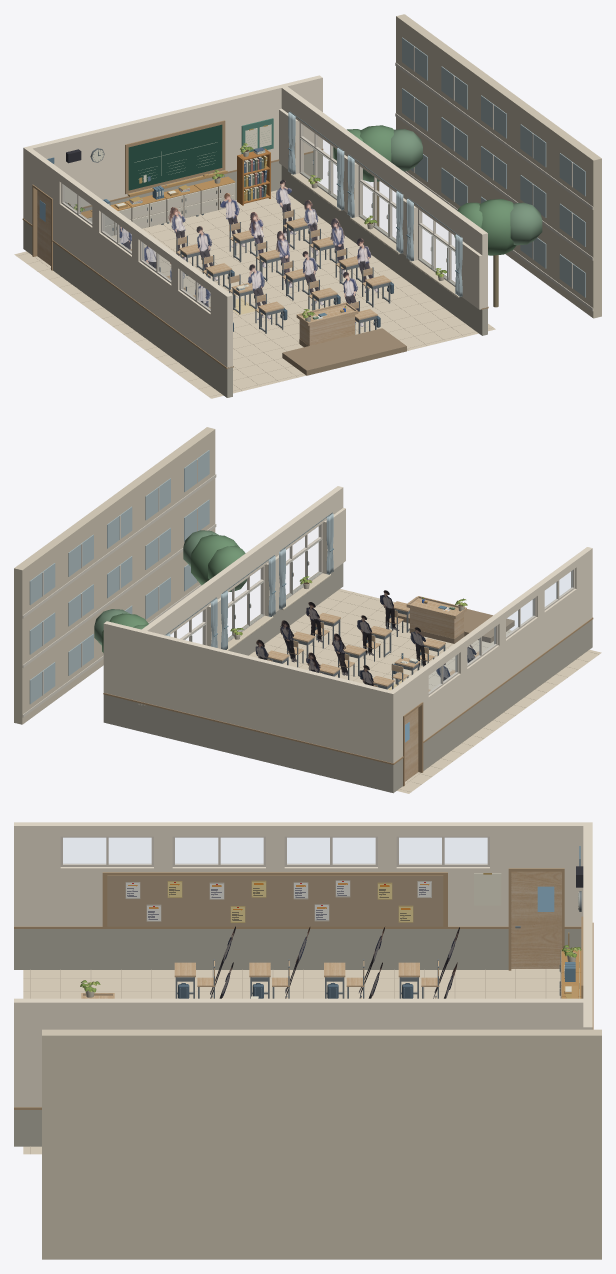
Rendered from current_classroom.glb.
The picture shows the model from 3 angles, top to bottom: view 1: azimuth 30°, elevation 25°; view 2: azimuth 150°, elevation 25°; view 3: azimuth 270°, elevation 25°; orthographic projection. The views are drawn at different scales.
Parts seen in each view (by area): view 1: _root_Classroom3D_Room_Floor, box_building0, _root_Classroom3D_Room_BackWall_Upper, _root_Classroom3D_Room_LeftWall_MidA, _root_Classroom3D_Room_RightWall_Top, _root_Classroom3D_Room_LeftWall_LowerA, _root_Classroom3D_Room_RightWall_Lower, _root_Classroom3D_Room_BackWall_NewsBoard_Board, _root_Classroom3D_Podium_Dais3, _root_Classroom3D_Room_LeftWall_Top, _root_Classroom3D_ClassroomArt_SceneDetails_WarmWindowTall1_ (×2), _root_Classroom3D_ClassroomArt_SceneDetails_WarmWindowTall2_ (×2) (+33 smaller); view 2: _root_Classroom3D_Room_BackWall_Upper, box_building0, _root_Classroom3D_Room_Floor, _root_Classroom3D_Room_BackWall_Lower, _root_Classroom3D_Room_LeftWall_MidA, _root_Classroom3D_Room_RightWall_Top, _root_Classroom3D_Room_LeftWall_LowerA, _root_Classroom3D_Room_LeftWall_Top, _root_Classroom3D_Room_RightWall_Lower, _root_Classroom3D_ClassroomArt_SceneDetails_WarmWindowTall3_ (×2), _root_Classroom3D_ClassroomArt_SceneDetails_WarmWindowTall2_ (×2), _root_Classroom3D_Podium_Lectern_Body (+23 smaller); view 3: box_building0, _root_Classroom3D_Room_LeftWall_LowerA, _root_Classroom3D_Room_RightWall_Top, _root_Classroom3D_Room_LeftWall_BulletinBoard_Cork, _root_Classroom3D_Room_Floor, _root_Classroom3D_Room_LeftWall_MidA, _root_Classroom3D_Room_LeftWall_Top, _root_Classroom3D_Room_LeftWall_Door_Leaf, _root_Classroom3D_Room_LeftWall_Post1, _root_Classroom3D_Room_LeftWall_BulletinBoard_Frame, _root_Classroom3D_Room_LeftWall_WindowHigh1_Glass, _root_Classroom3D_Room_LeftWall_WindowHigh2_Glass (+11 smaller).
Part boxes in pixels (x1,y1,x2,y2): _root_Classroom3D_Room_Floor: (14, 190, 495, 398); box_building0: (396, 14, 601, 318); _root_Classroom3D_Room_BackWall_Upper: (23, 75, 322, 220); _root_Classroom3D_Room_LeftWall_MidA: (53, 199, 232, 367); _root_Classroom3D_Room_RightWall_Top: (281, 85, 487, 255); _root_Classroom3D_Room_LeftWall_LowerA: (53, 242, 232, 397); _root_Classroom3D_Room_RightWall_Lower: (281, 165, 487, 335); _root_Classroom3D_Room_BackWall_NewsBoard_Board: (128, 124, 222, 190); _root_Classroom3D_Podium_Dais3: (282, 328, 406, 375); _root_Classroom3D_Room_LeftWall_Top: (24, 147, 232, 304); _root_Classroom3D_ClassroomArt_SceneDetails_WarmWindowTall1_ (×2): (288, 112, 344, 210); _root_Classroom3D_ClassroomArt_SceneDetails_WarmWindowTall2_ (×2): (347, 155, 403, 253); _root_Classroom3D_Room_BackWall_Upper: (103, 621, 396, 763); box_building0: (14, 427, 215, 724); _root_Classroom3D_Room_Floor: (249, 589, 601, 793); _root_Classroom3D_Room_BackWall_Lower: (103, 694, 396, 792); _root_Classroom3D_Room_LeftWall_MidA: (422, 577, 592, 740); _root_Classroom3D_Room_RightWall_Top: (141, 486, 343, 652); _root_Classroom3D_Room_LeftWall_LowerA: (423, 620, 592, 770); _root_Classroom3D_Room_LeftWall_Top: (388, 547, 592, 698); _root_Classroom3D_Room_RightWall_Lower: (229, 563, 343, 655); _root_Classroom3D_ClassroomArt_SceneDetails_WarmWindowTall3_ (×2): (279, 513, 333, 609); _root_Classroom3D_ClassroomArt_SceneDetails_WarmWindowTall2_ (×2): (221, 556, 275, 649); _root_Classroom3D_Podium_Lectern_Body: (410, 608, 463, 638); box_building0: (42, 1029, 601, 1259); _root_Classroom3D_Room_LeftWall_LowerA: (14, 929, 508, 969); _root_Classroom3D_Room_RightWall_Top: (14, 998, 592, 1032); _root_Classroom3D_Room_LeftWall_BulletinBoard_Cork: (107, 875, 443, 926); _root_Classroom3D_Room_Floor: (23, 969, 560, 1154); _root_Classroom3D_Room_LeftWall_MidA: (14, 867, 508, 926); _root_Classroom3D_Room_LeftWall_Top: (14, 822, 592, 836); _root_Classroom3D_Room_LeftWall_Door_Leaf: (511, 871, 561, 968); _root_Classroom3D_Room_LeftWall_Post1: (490, 836, 583, 868); _root_Classroom3D_Room_LeftWall_BulletinBoard_Frame: (102, 872, 447, 928); _root_Classroom3D_Room_LeftWall_WindowHigh1_Glass: (399, 838, 486, 863); _root_Classroom3D_Room_LeftWall_WindowHigh2_Glass: (287, 838, 374, 863).
Bounding box in the file's own units: 13.95 × 5.65 × 12.6.
Materials: 85 (21 with a texture image).
